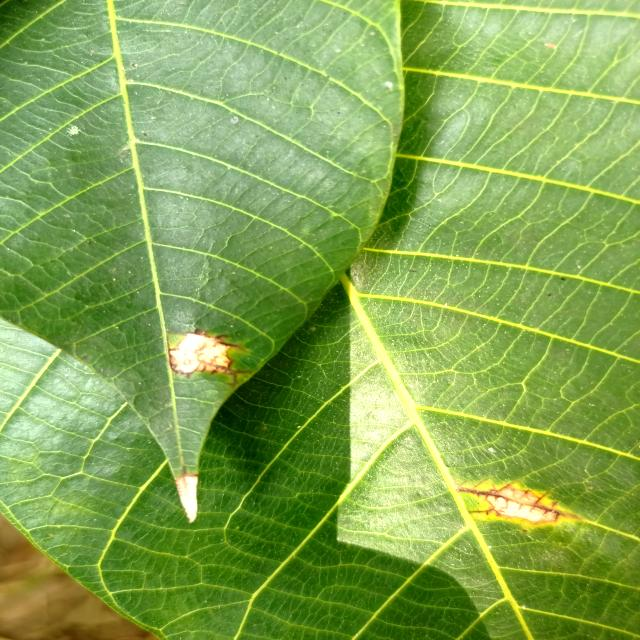Colletotrichum: (183, 358, 191, 366), (522, 530, 526, 532)
Corynespora: (458, 482, 580, 524), (167, 327, 250, 387)
Leaf-Blight: (171, 335, 229, 374), (175, 474, 197, 523)
